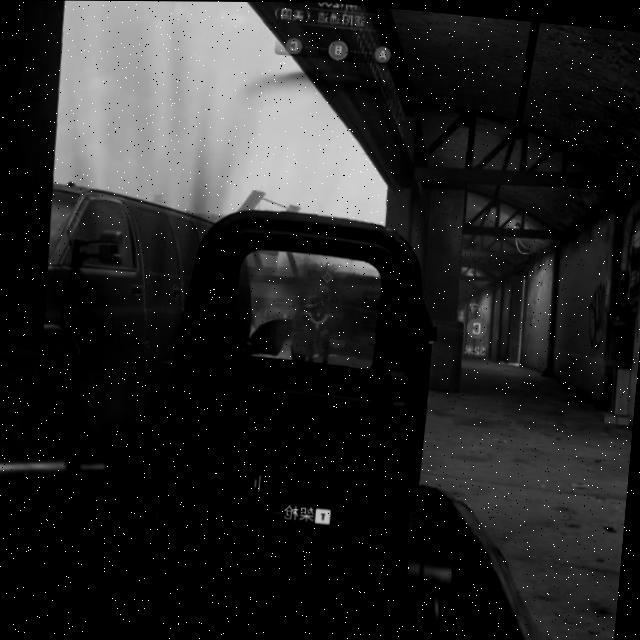MW2_body: (298, 269, 338, 363)
